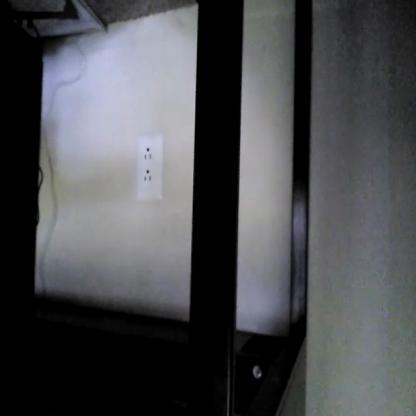OUTLET: (136, 133, 162, 201)
